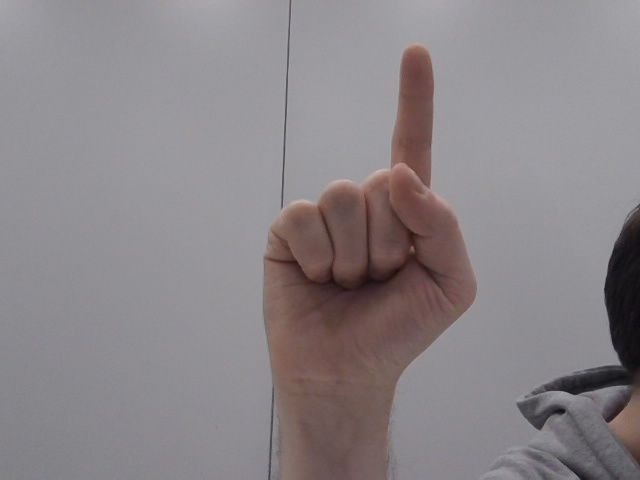up: (247, 29, 486, 409)
